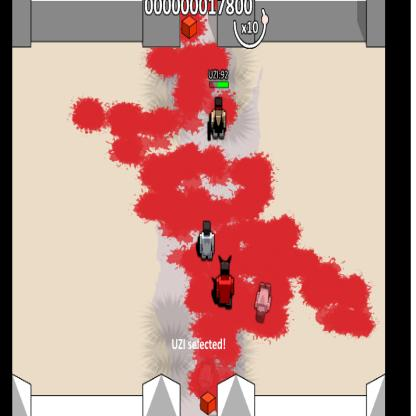agent: (210, 97, 226, 140)
boss: (216, 257, 234, 311)
jombie: (199, 221, 215, 262)
